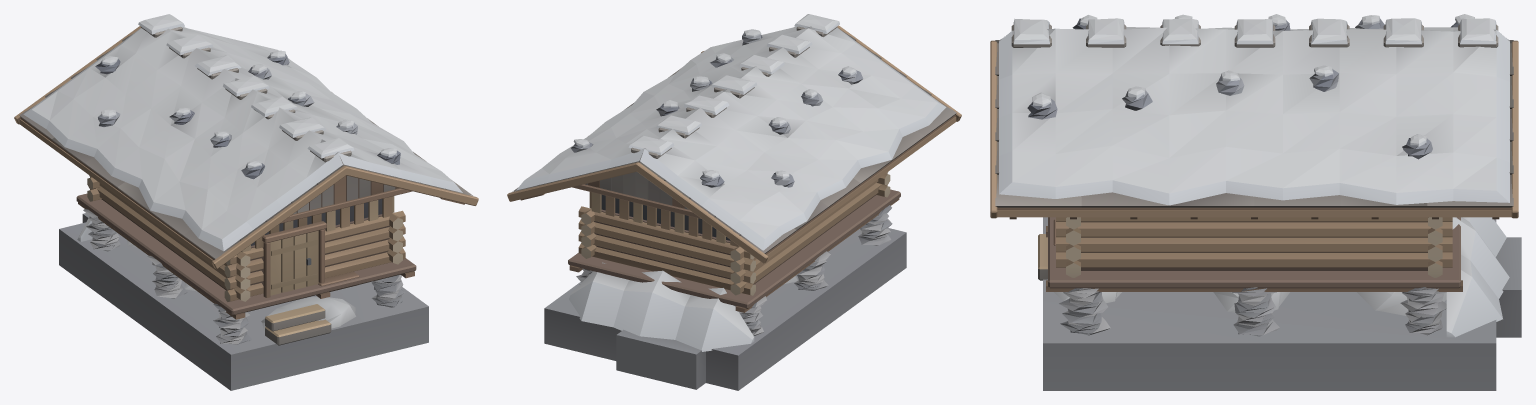
Rendered from barn.glb.
3 renders of one model, left to right at view 1: azimuth 30°, elevation 25°; view 2: azimuth 150°, elevation 25°; view 3: azimuth 270°, elevation 25°, orthographic. The views are drawn at different scales.
Bounding box in the file's own units: 7.98 × 6.53 × 10.5.
